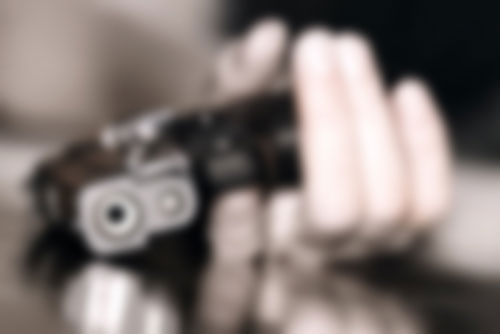gun: (26, 91, 302, 264)
